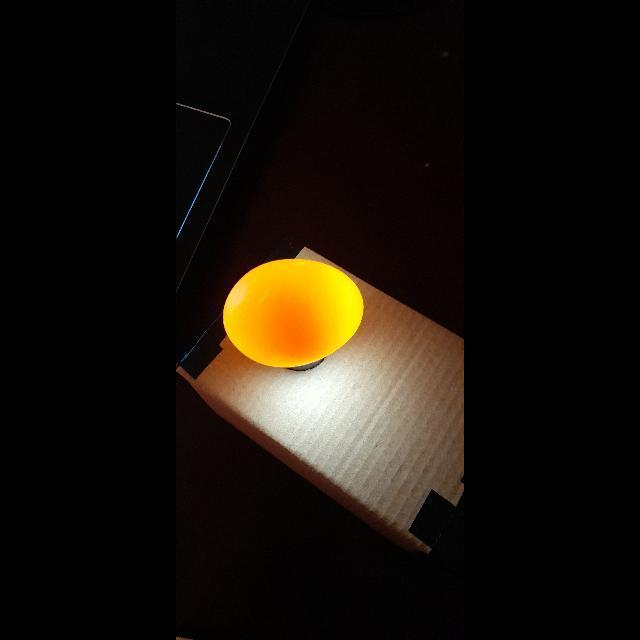Inedible: (212, 253, 371, 373)
